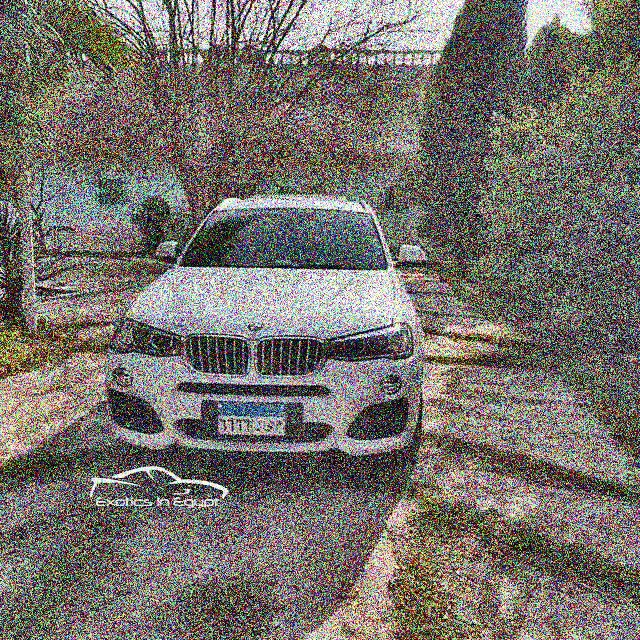License Plate: (215, 399, 288, 440)
